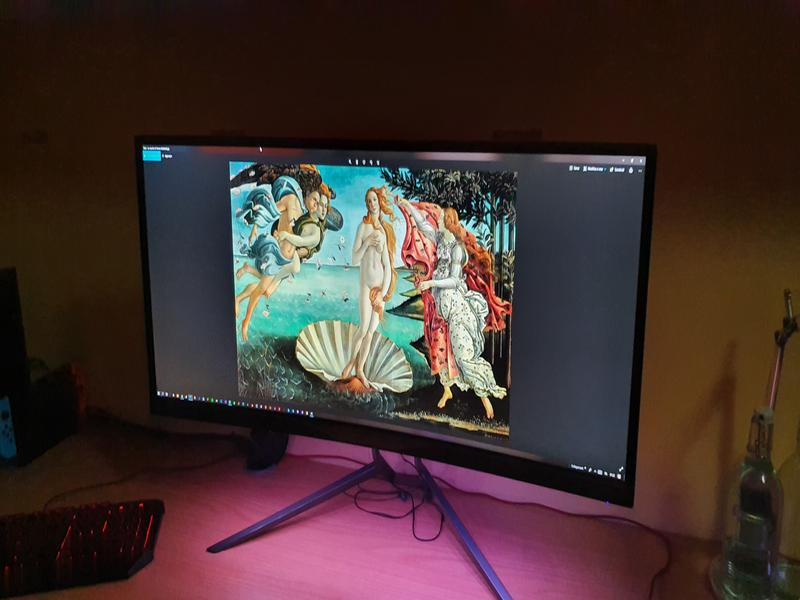Venere: (222, 152, 526, 448)
